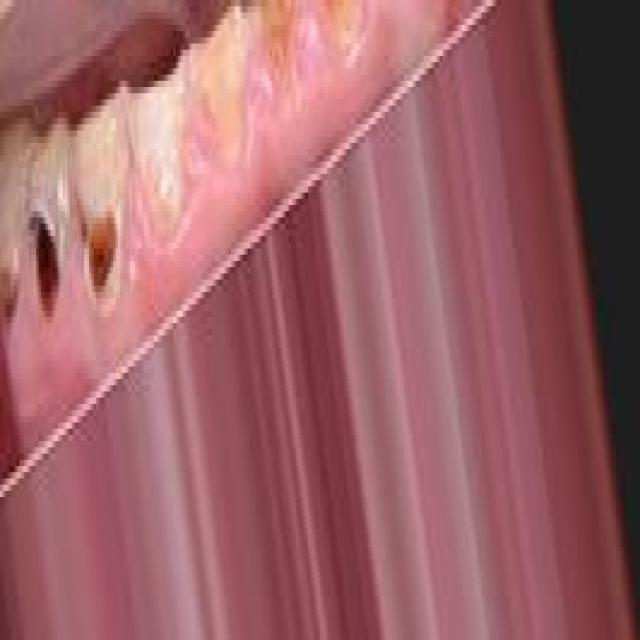caries: (188, 0, 245, 149), (78, 187, 128, 329), (24, 185, 70, 338)
